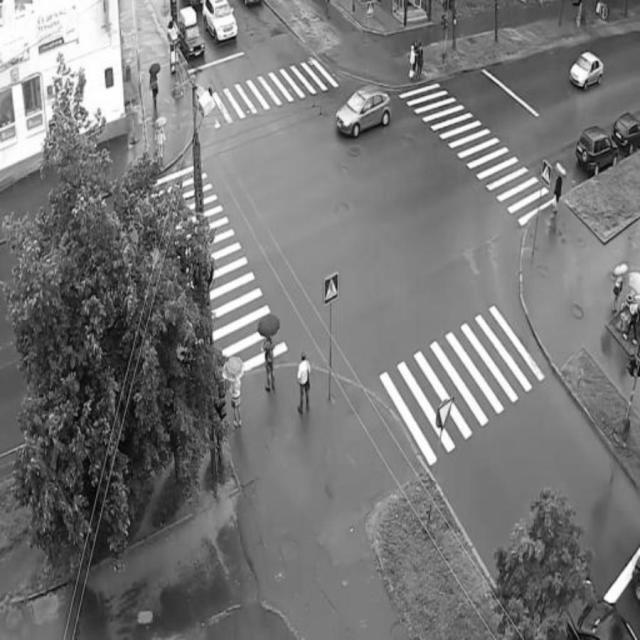person: (259, 316, 284, 393), (547, 159, 571, 230), (296, 346, 316, 429), (226, 355, 244, 435), (153, 115, 168, 170), (415, 34, 429, 88), (150, 70, 164, 116), (613, 256, 623, 311), (411, 38, 421, 86), (634, 288, 640, 352)
vehicle: (336, 83, 391, 137), (195, 0, 239, 47), (572, 133, 616, 178), (177, 6, 209, 67), (609, 109, 639, 155), (572, 50, 602, 88)
